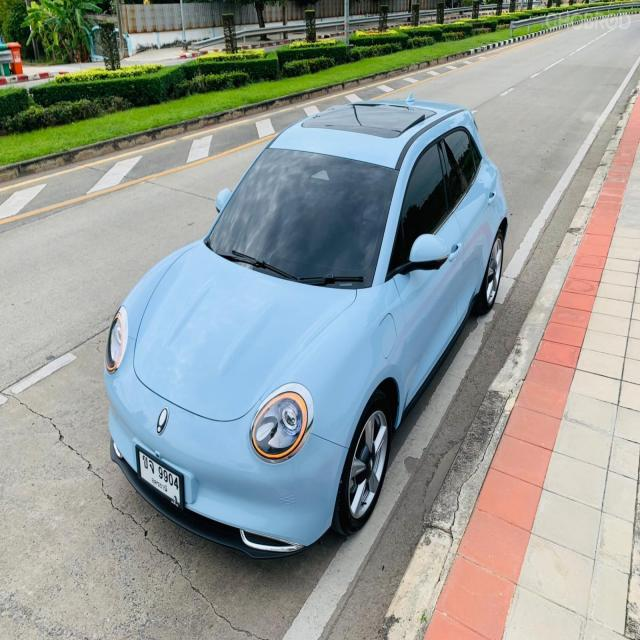license_plate: (135, 444, 184, 509)
